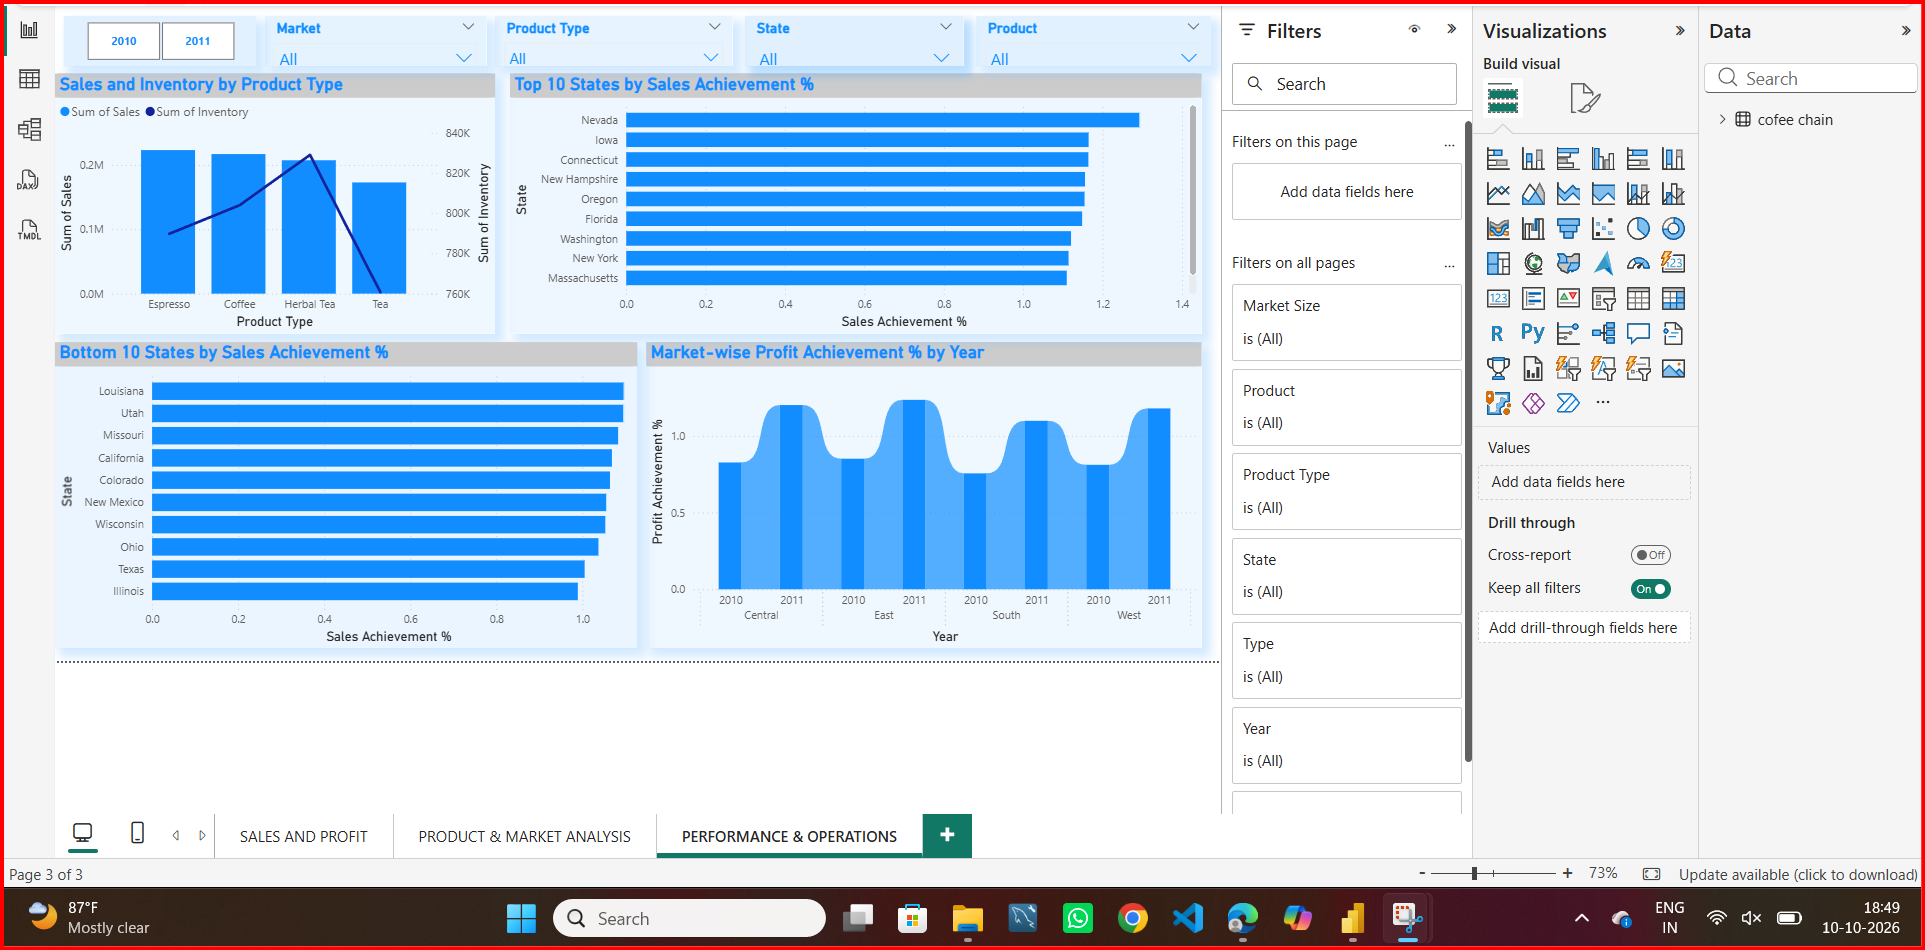

What the dashboard file says about the page in this screenshot:
{"tool":"powerbi","page":{"name":"PERFORMANCE & OPERATIONS","canvas":[1280,720],"ordinal":2},"visuals":[{"type":"lineClusteredColumnComboChart","title":"Sales and Inventory by Product Type","fields":{"Category":["cofee chain.Product Type"],"Y":["Sum(cofee chain.Sales)"],"Y2":["Sum(cofee chain.Inventory)"]},"box":[0,74.1,483,285.4],"z":0},{"type":"ribbonChart","title":"Market-wise Profit Achievement % by Year","fields":{"Category":["cofee chain.Market","cofee chain.Year"],"Y":["cofee chain.Profit Achievement %"]},"box":[649.1,369.1,609.3,336.2],"z":1000},{"type":"clusteredBarChart","title":"Top 10 States by Sales Achievement %","fields":{"Category":["cofee chain.State"],"Y":["cofee chain.Sales Achievement %"]},"box":[499.5,74.1,758.8,285.4],"z":2000},{"type":"clusteredBarChart","title":"Bottom 10 States by Sales Achievement %","fields":{"Category":["cofee chain.State"],"Y":["cofee chain.Sales Achievement %"]},"box":[0,369.1,639.5,336.2],"z":3000},{"type":"slicer","fields":{"Values":["cofee chain.Year"]},"box":[9.6,11,211.3,54.9],"z":4000},{"type":"slicer","fields":{"Values":["cofee chain.Market"]},"box":[230.5,11,242.9,54.9],"z":5000},{"type":"slicer","fields":{"Values":["cofee chain.Product Type"]},"box":[483,11,260.7,54.9],"z":6000},{"type":"slicer","fields":{"Values":["cofee chain.State"]},"box":[757.5,11,240.1,54.9],"z":7000},{"type":"slicer","fields":{"Values":["cofee chain.Product"]},"box":[1011.3,11,258,54.9],"z":8000}]}

Visuals, with their boxes on the page's 1280x720 design canvas (x1, y1, x2, y2). These are canvas units, not pixel positions in the 1925x950 screenshot, which may show the page scaled, cropped or inside an application window:
"Sales and Inventory by Product Type" lineClusteredColumnComboChart: [0,74,483,360]
"Market-wise Profit Achievement % by Year" ribbonChart: [649,369,1258,705]
"Top 10 States by Sales Achievement %" clusteredBarChart: [500,74,1258,360]
"Bottom 10 States by Sales Achievement %" clusteredBarChart: [0,369,640,705]
slicer - cofee chain.Year: [10,11,221,66]
slicer - cofee chain.Market: [230,11,473,66]
slicer - cofee chain.Product Type: [483,11,744,66]
slicer - cofee chain.State: [758,11,998,66]
slicer - cofee chain.Product: [1011,11,1269,66]
